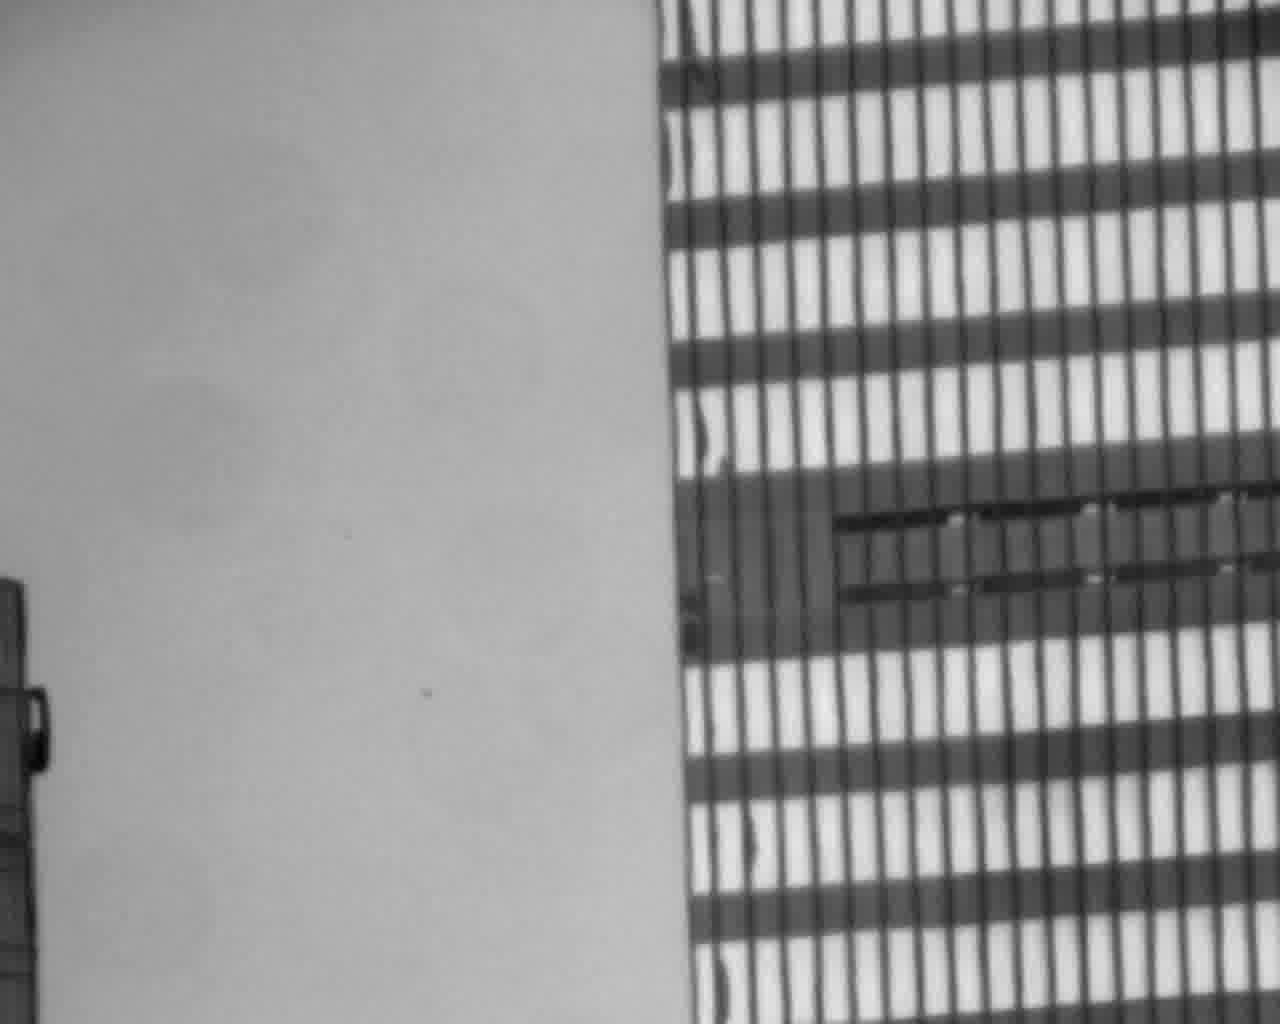Target: (421, 689, 433, 701)
